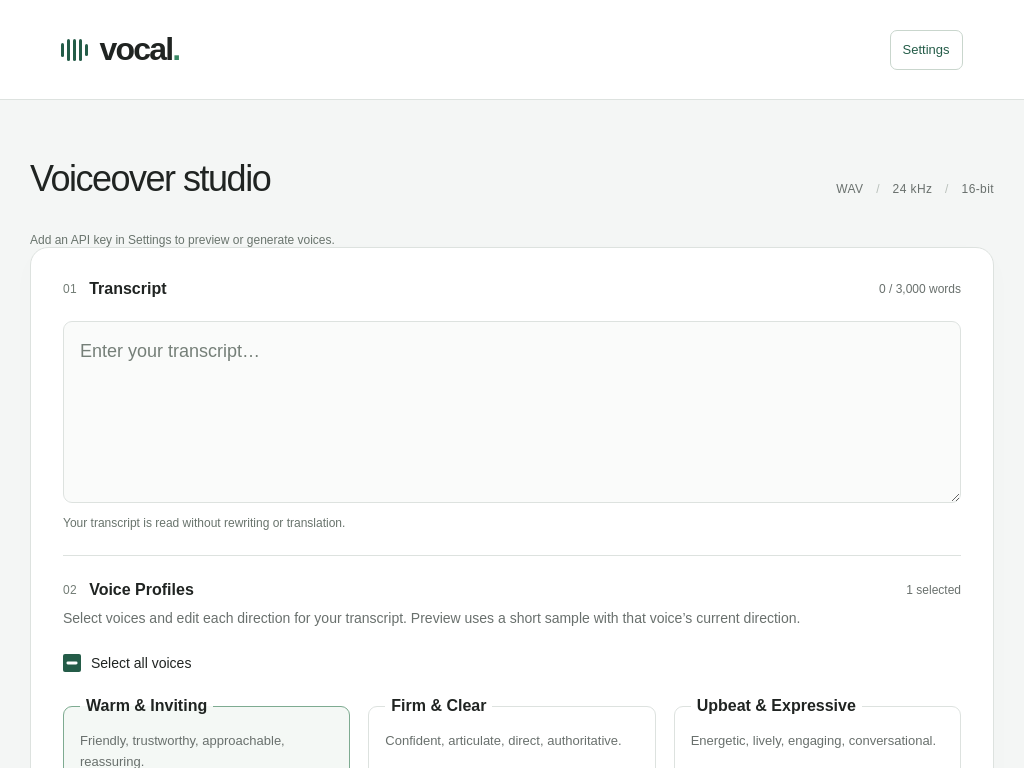
Test: reports failed saves while keeping the input and previous active key
The image size is (1024, 768).
Expected: the text "Add an API key in Settings to preview or generate voices." is shown, [30,233,335,247]
Click the button "Settings".
click(926, 50)  # box [890,30,963,70]
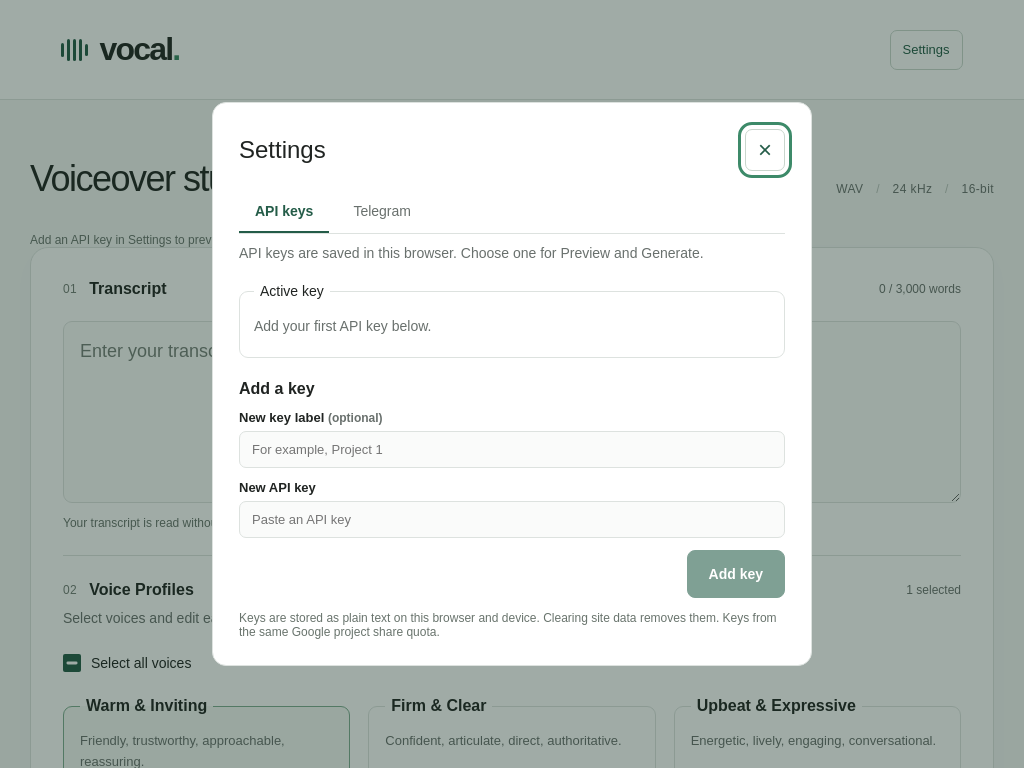
Type "new-secret" into the field labelled "New API key".
click(512, 520); type("new-secret")  # box [239,501,785,538]
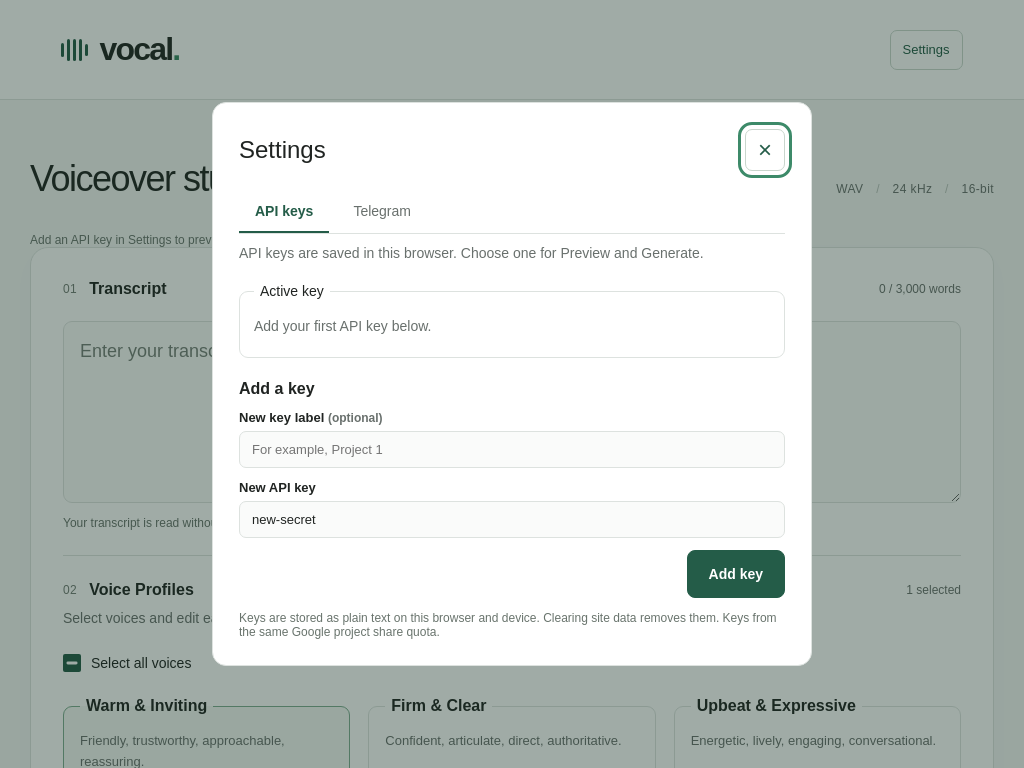
Click the button "Add key".
click(736, 574)  # box [686,550,785,598]
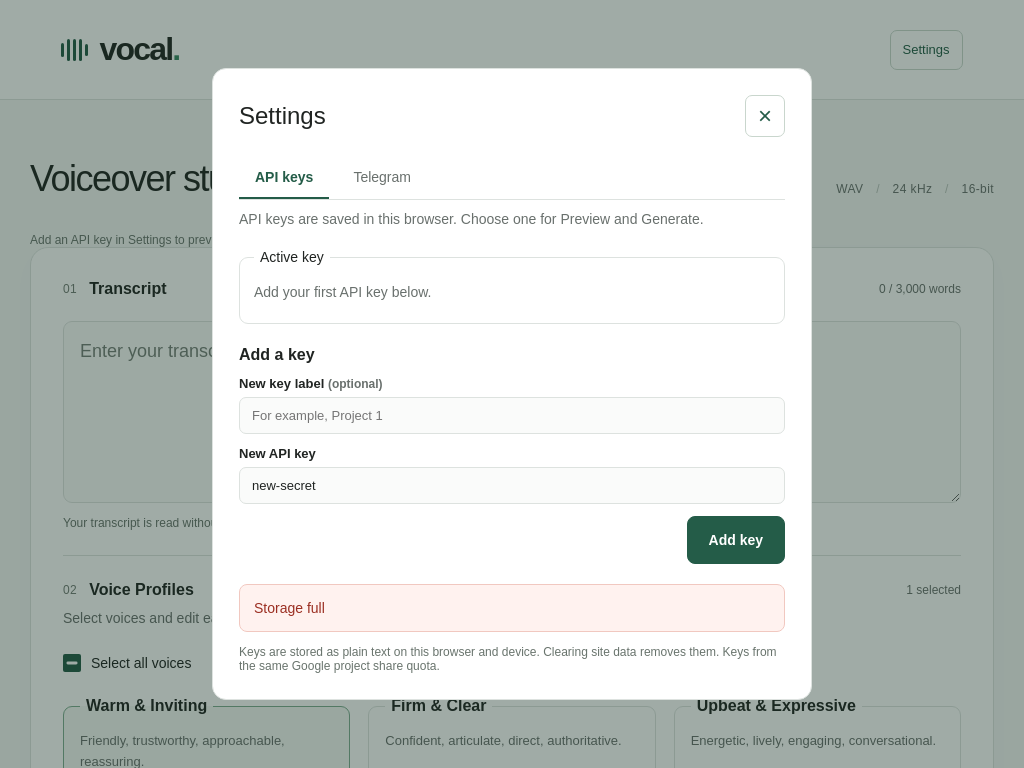
Now the message "Storage full" is shown, box [239,584,785,632]
